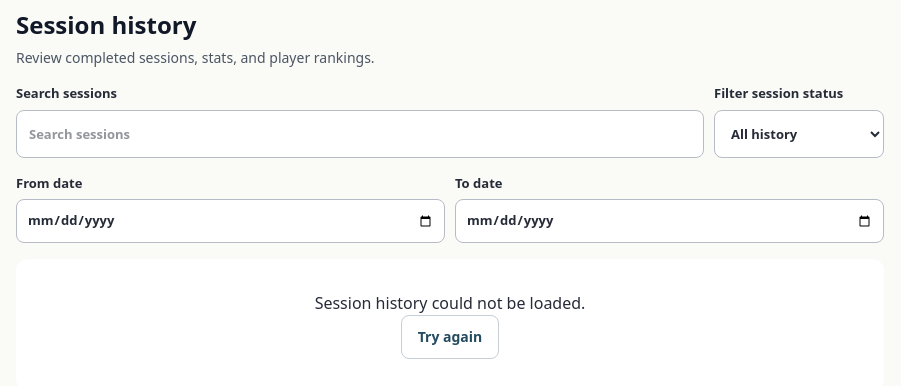
a failed history read can be retried in place
The width and height of the screenshot is (901, 386).
Expected: the message "Session history could not be loaded." is shown, [315,292,585,314]
Click the button "Try again". click: point(450, 337)
box: [401,315,499,359]
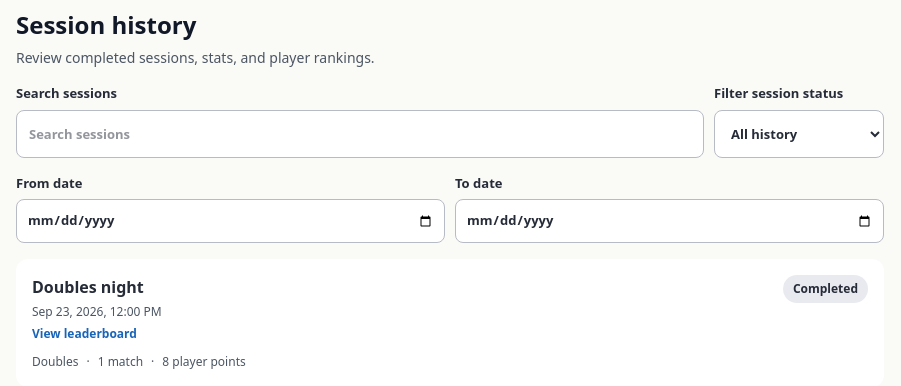
Now the text "Doubles night" is shown, box [32,275,162,299]
